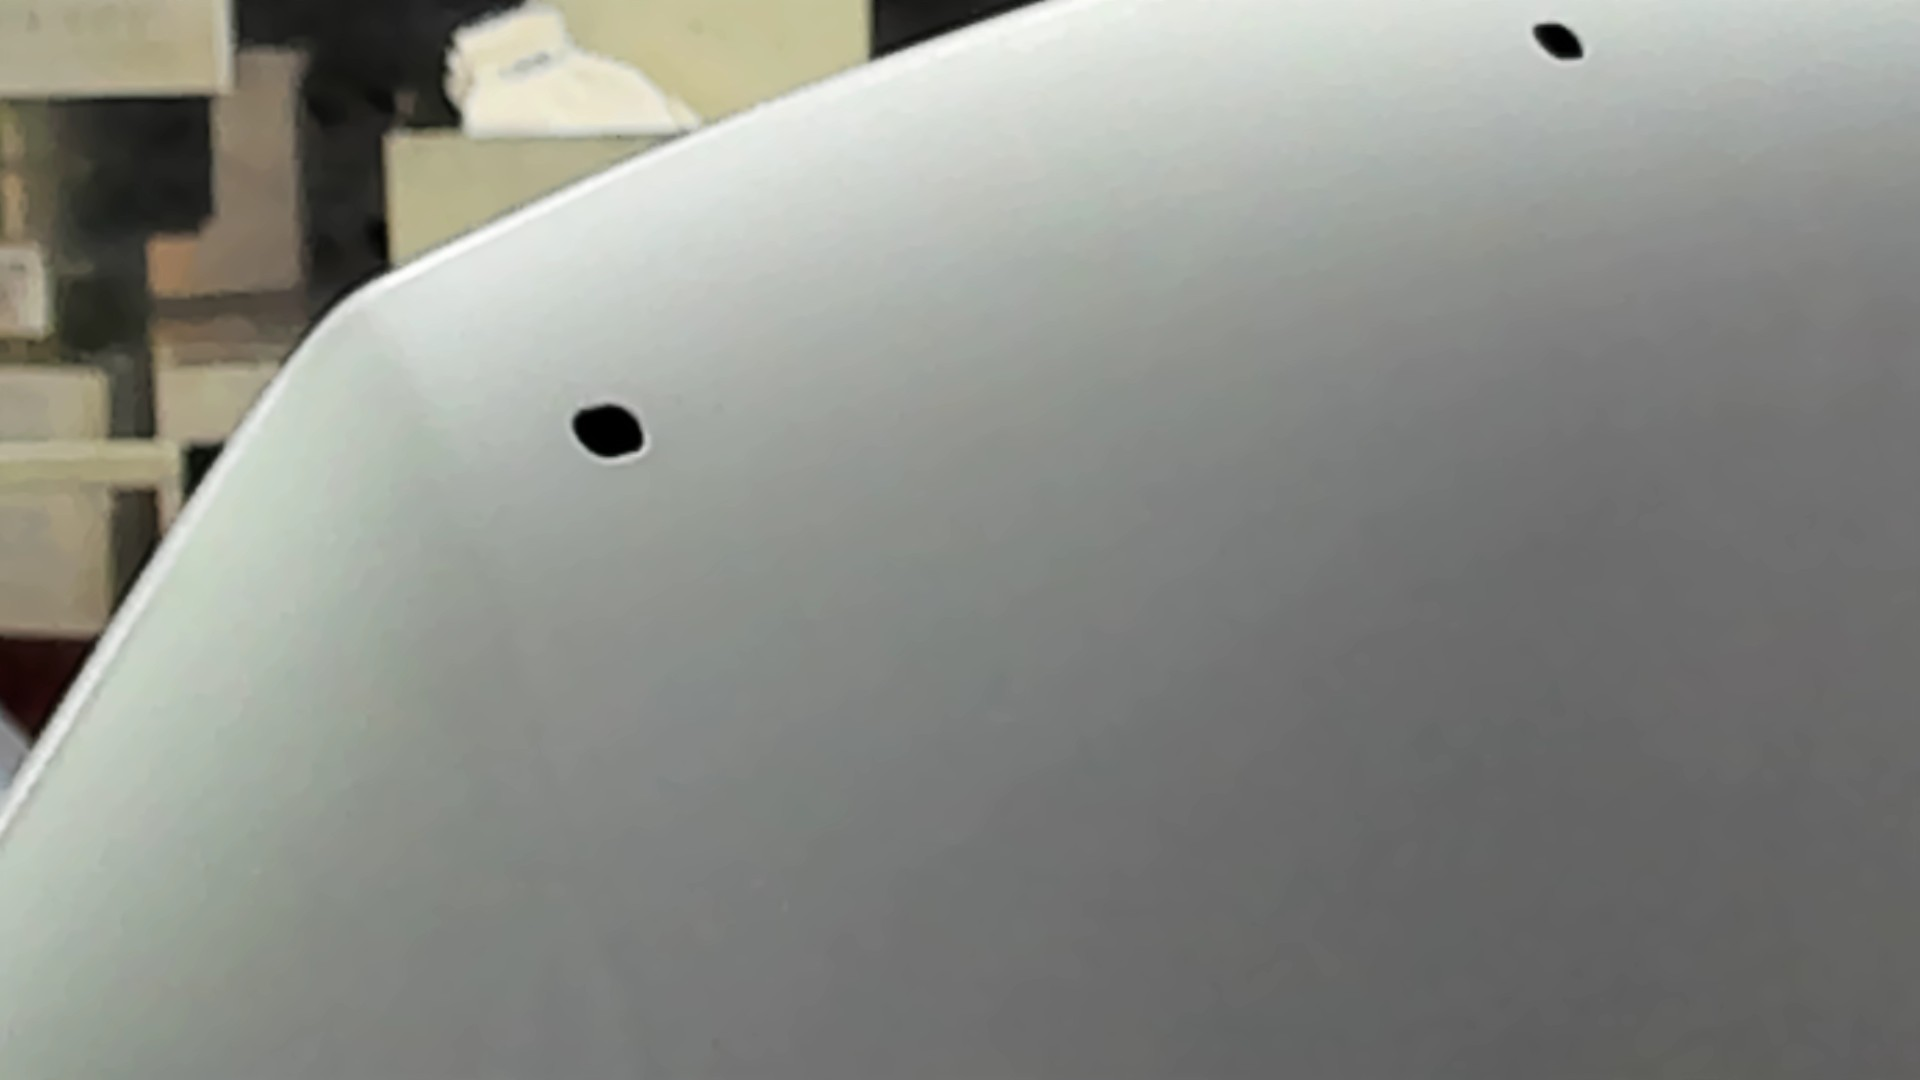amorfo: (566, 401, 647, 464), (1528, 18, 1596, 65)
